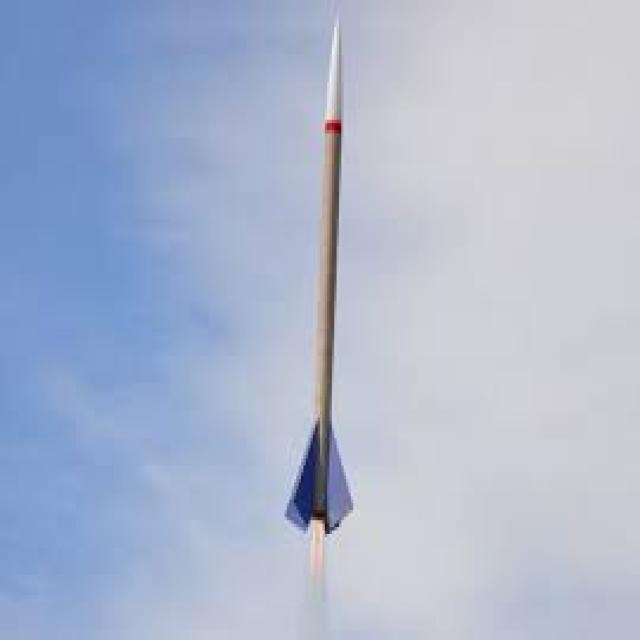Rocket: (280, 14, 356, 545)
